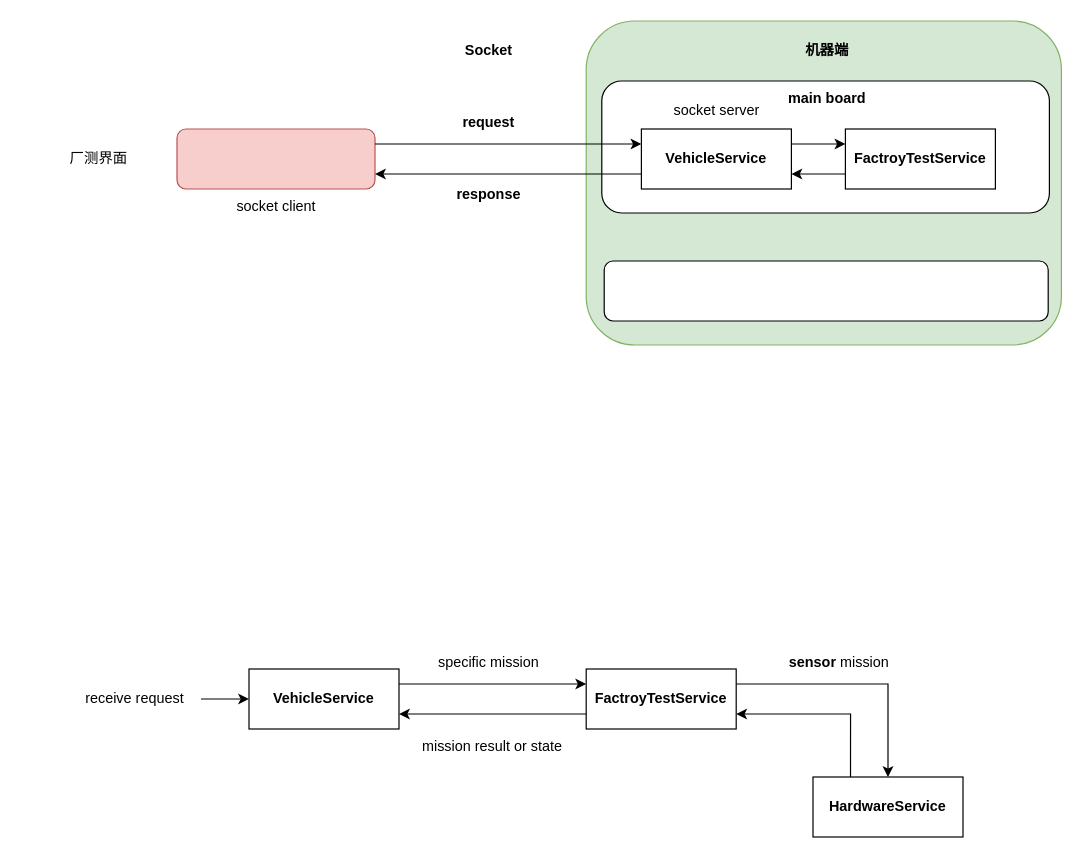
Some shapes in this 1082 by 858 pixel diagram are drawn without their labels. Each missing label, with the centre of its shape:
secondary board: point 825,290
遥控端: point 275,158
